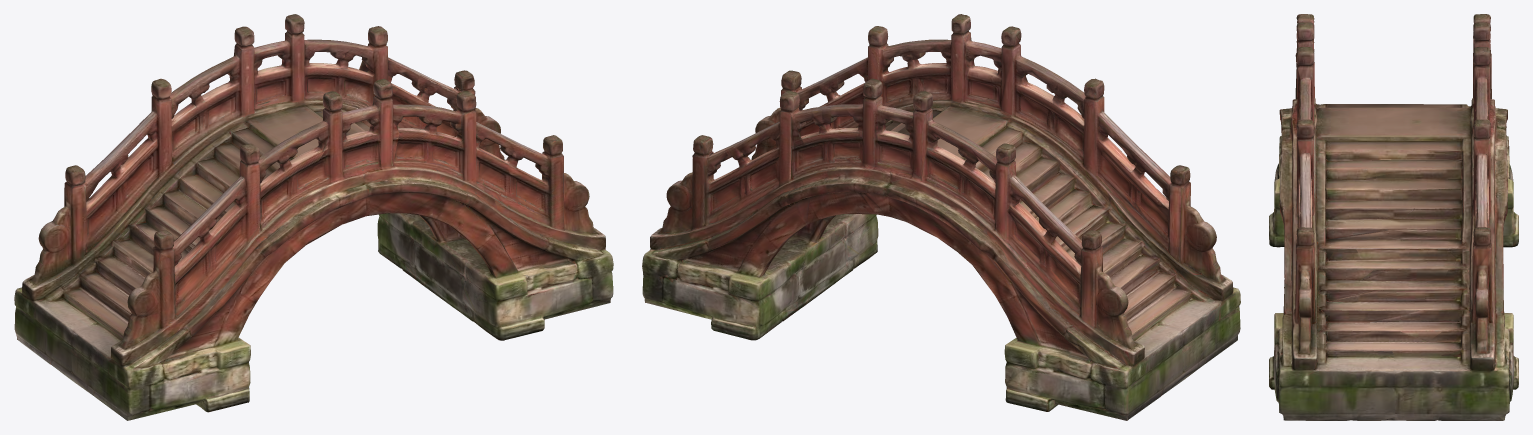
Rendered from bridge.glb.
3 renders of one model, left to right at view 1: azimuth 30°, elevation 25°; view 2: azimuth 150°, elevation 25°; view 3: azimuth 270°, elevation 25°, orthographic.
Visible parts, largest first — view 1: Mesh_0; view 2: Mesh_0; view 3: Mesh_0.
Boxes of the visible parts, box(x1,y1,x2,y2) form: Mesh_0: box(14, 14, 613, 420); Mesh_0: box(642, 14, 1240, 420); Mesh_0: box(1269, 14, 1518, 420).
Bounding box in the file's own units: 1.91 × 1.02 × 0.8531.
Materials: 1 (1 with a texture image).
